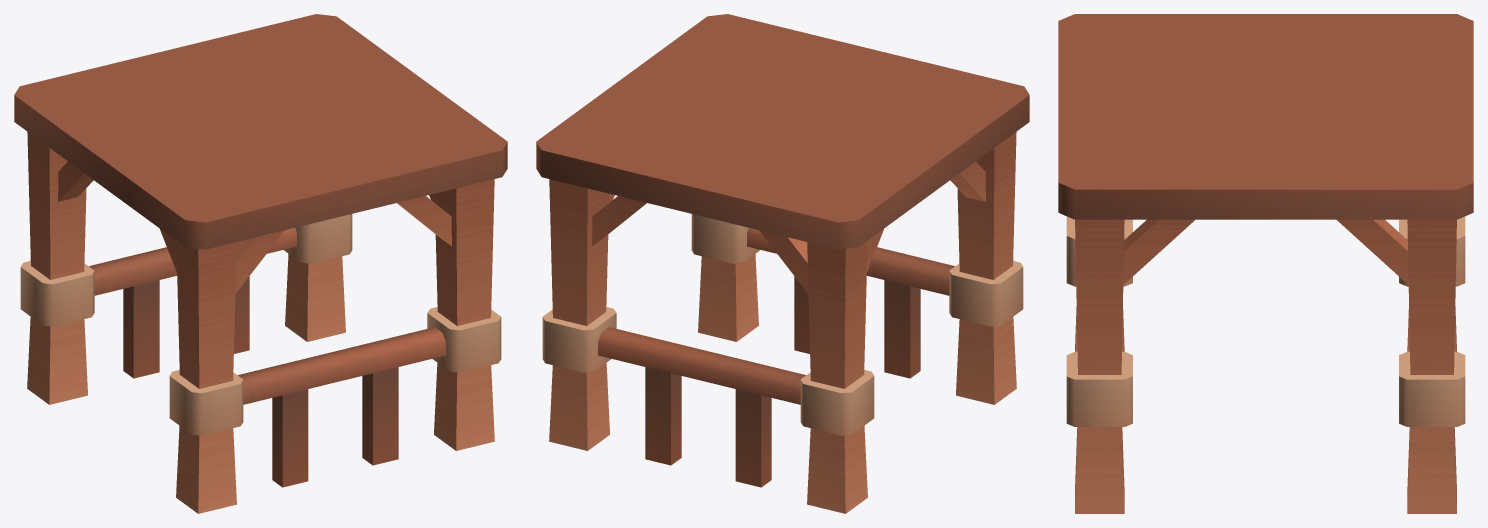
Rendered from structure-fence.glb.
3 renders of one model, left to right at view 1: azimuth 30°, elevation 25°; view 2: azimuth 150°, elevation 25°; view 3: azimuth 270°, elevation 25°, orthographic. The views are drawn at different scales.
Visible parts, largest first — view 1: structure-fence; view 2: structure-fence; view 3: structure-fence.
Boxes of the visible parts, box(x1,y1,x2,y2) form: structure-fence: box(14, 14, 507, 513); structure-fence: box(536, 14, 1029, 513); structure-fence: box(1058, 14, 1473, 513).
Size of the model in its own units: 2.5 by 2.2 by 2.5.
1 material, 1 textured.
